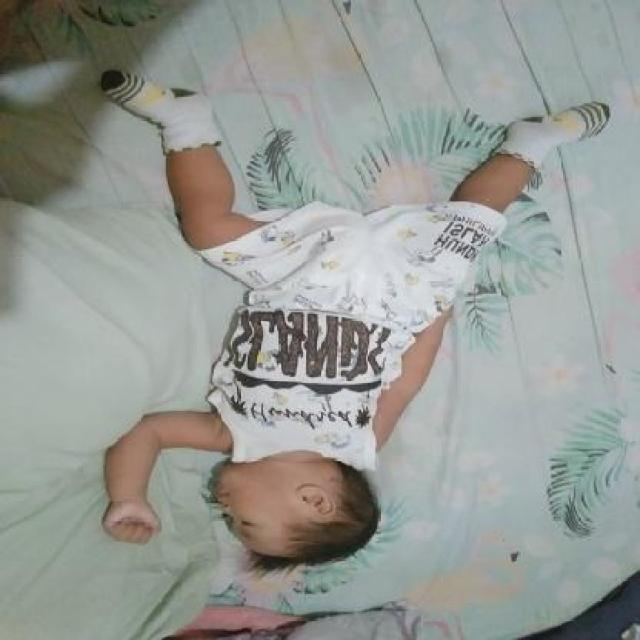baby: (97, 70, 611, 576)
